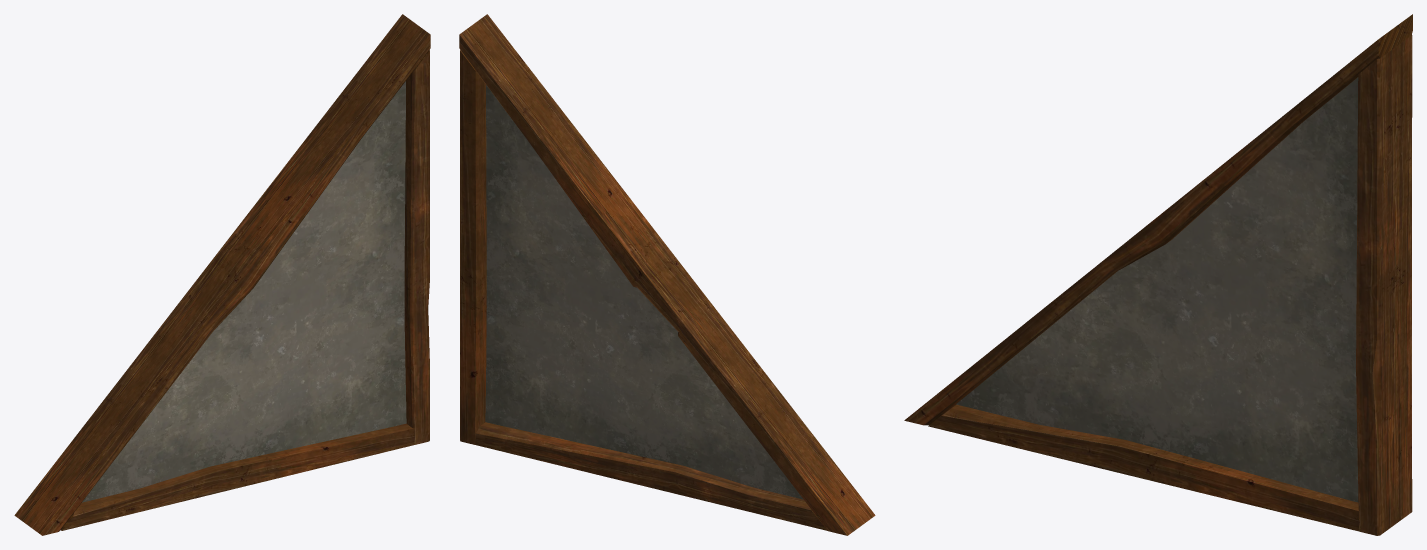
The picture shows the model from 3 angles, left to right: view 1: azimuth 30°, elevation 25°; view 2: azimuth 150°, elevation 25°; view 3: azimuth 330°, elevation 25°; orthographic projection. The views are drawn at different scales.
Parts seen in each view (by area): view 1: SM_BB_T2_Wall_Large_Diagonal_LOD0; view 2: SM_BB_T2_Wall_Large_Diagonal_LOD0; view 3: SM_BB_T2_Wall_Large_Diagonal_LOD0.
Part boxes in pixels (x1,y1,x2,y2): SM_BB_T2_Wall_Large_Diagonal_LOD0: [14, 14, 430, 535]; SM_BB_T2_Wall_Large_Diagonal_LOD0: [459, 14, 875, 535]; SM_BB_T2_Wall_Large_Diagonal_LOD0: [904, 14, 1412, 535].
Bounding box in the file's own units: 3 × 3 × 0.3774.
Materials: 2 (2 with a texture image).
